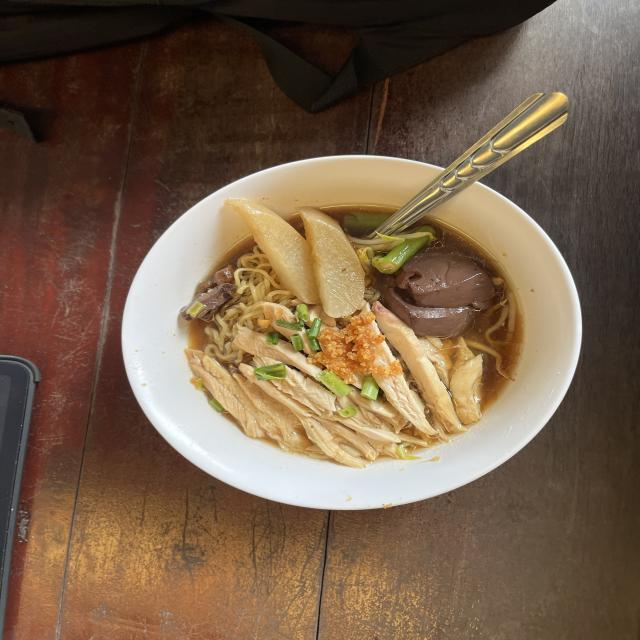noodle: (387, 254, 484, 327)
